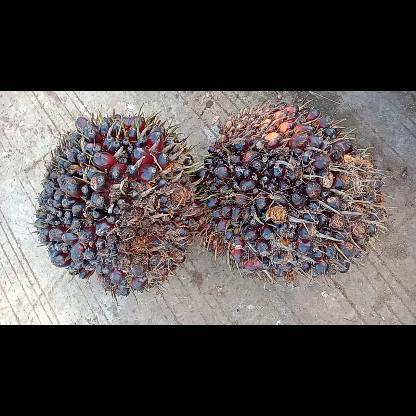TBS mentah: (200, 103, 386, 277), (34, 113, 198, 295)
